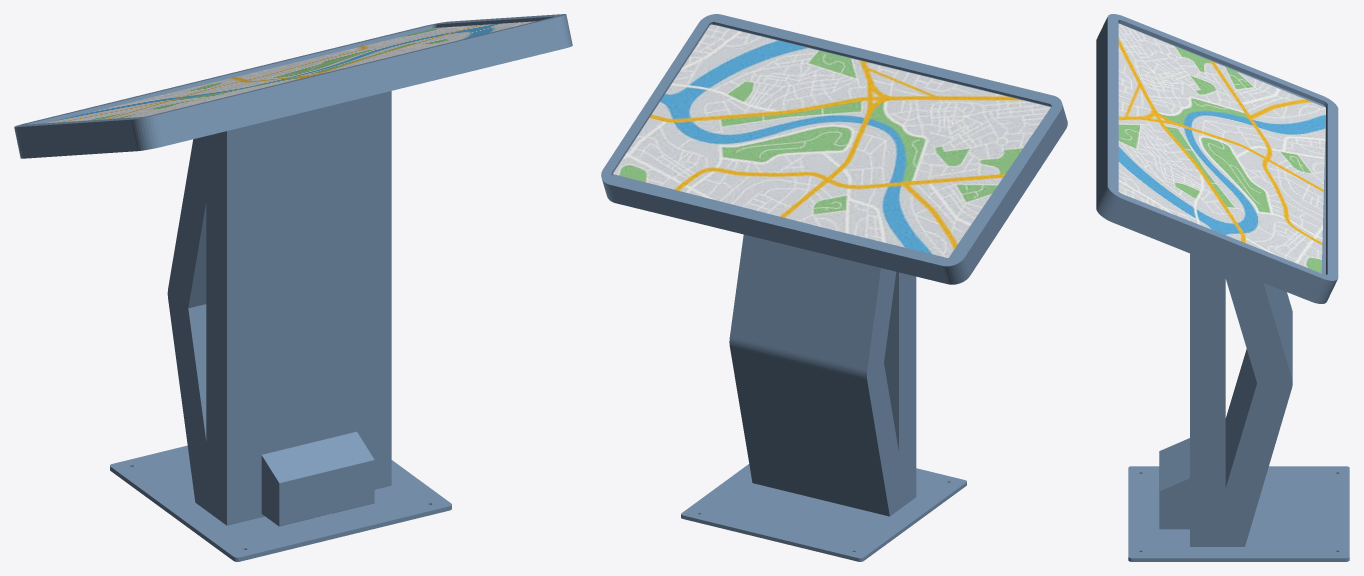
The model's file is desk_navi2.glb.
The picture shows the model from 3 angles, left to right: view 1: azimuth 30°, elevation 25°; view 2: azimuth 150°, elevation 25°; view 3: azimuth 270°, elevation 25°; orthographic projection. The views are drawn at different scales.
Visible parts, largest first — view 1: Desk_Kiosk_Kütük_Kesim, indir; view 2: Desk_Kiosk_Kütük_Kesim, indir; view 3: Desk_Kiosk_Kütük_Kesim, indir.
Boxes of the visible parts, <box> form: Desk_Kiosk_Kütük_Kesim: <box>14,14,572,561</box>; indir: <box>46,21,535,123</box>; Desk_Kiosk_Kütük_Kesim: <box>601,14,1067,561</box>; indir: <box>613,24,1050,257</box>; Desk_Kiosk_Kütük_Kesim: <box>1096,14,1349,561</box>; indir: <box>1118,23,1325,273</box>.
Size of the model in its own units: 105 by 111 by 61.62.
2 materials, 1 textured.
